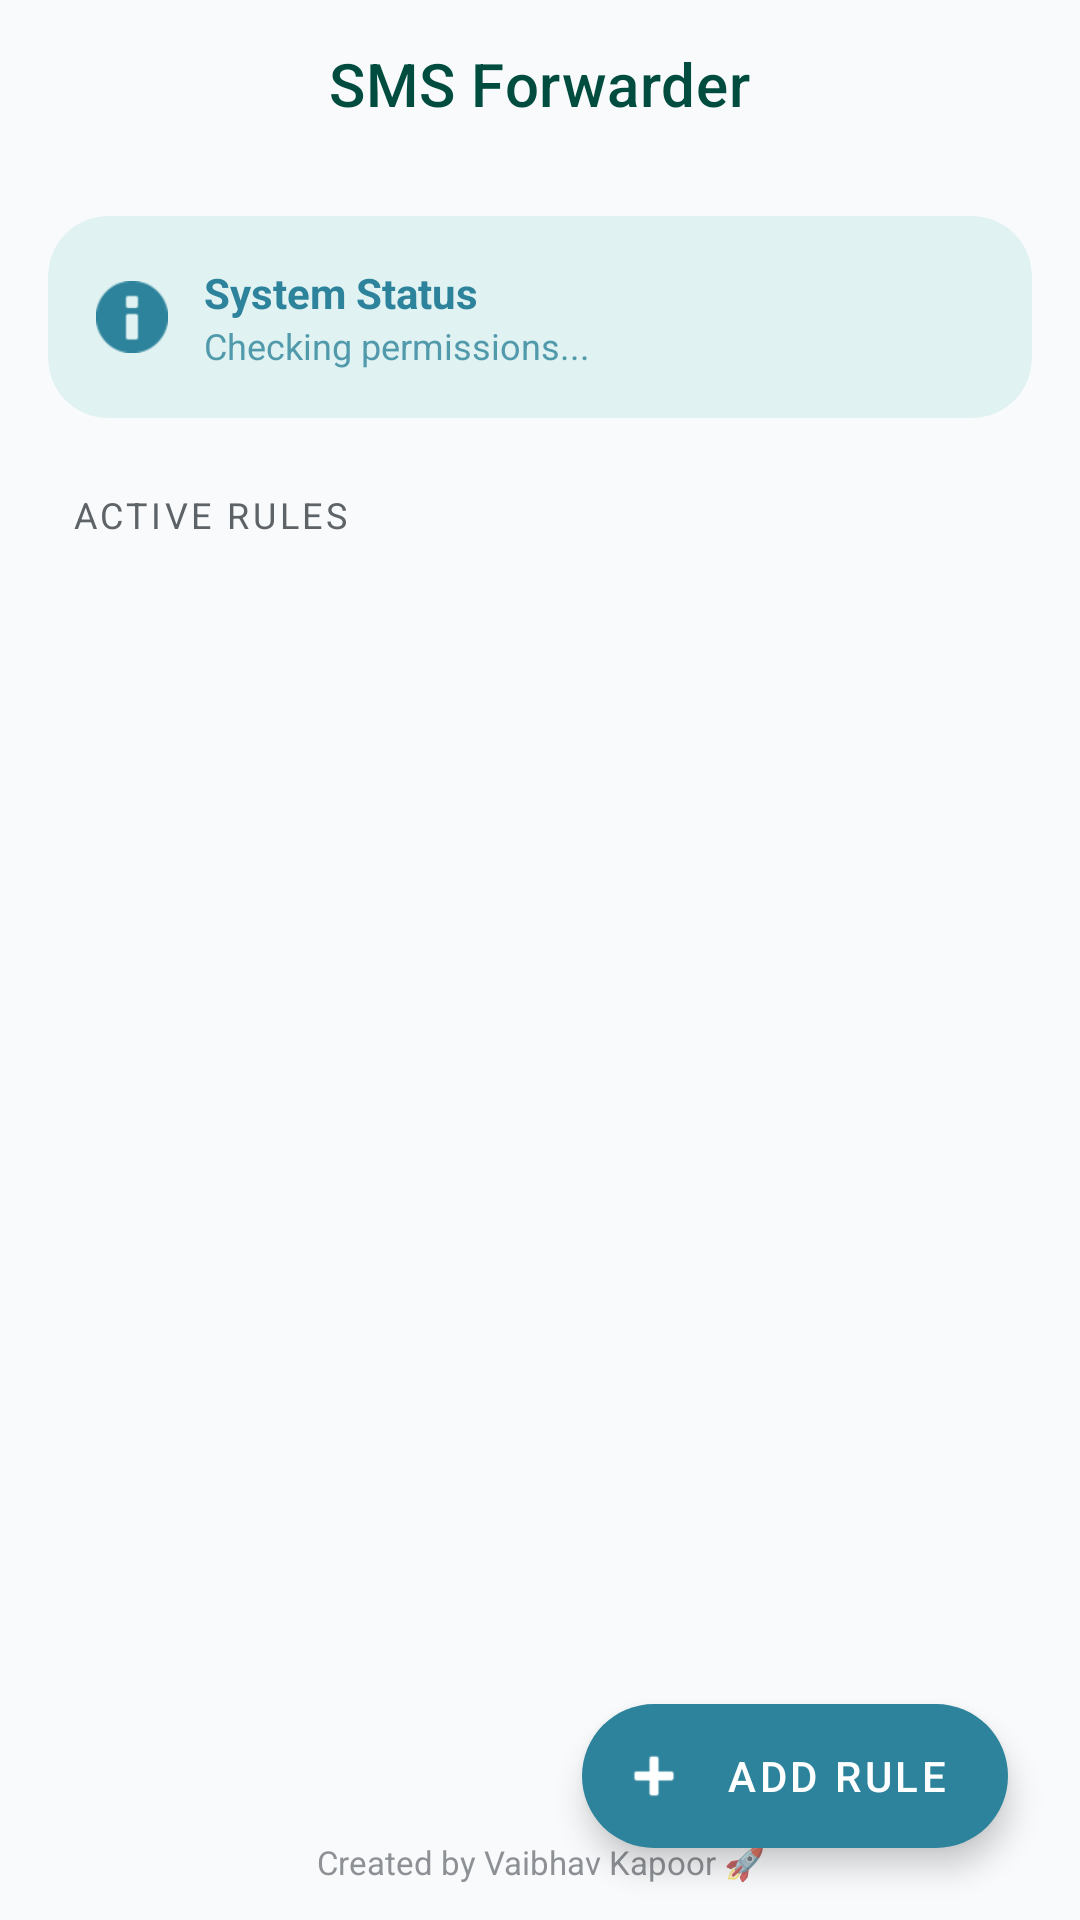

Point at icon controls on the screen. Image size 1080 × 1920, points as [x,y].
info: [132,317]
